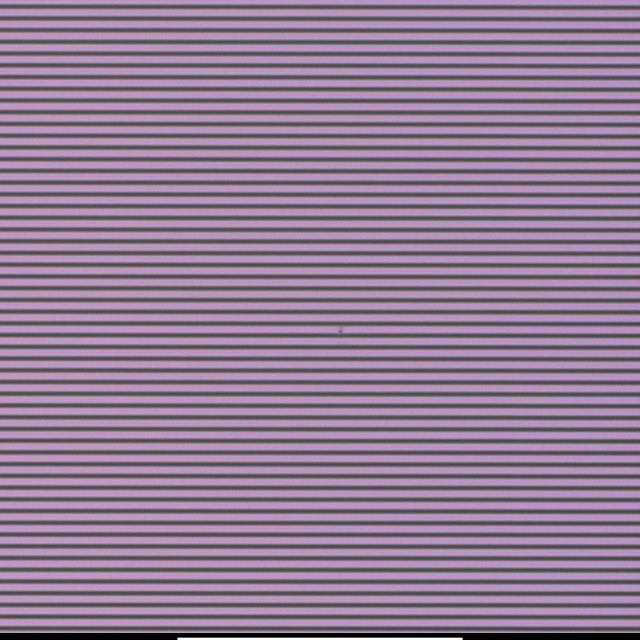nonvisual: (335, 324, 347, 338)
